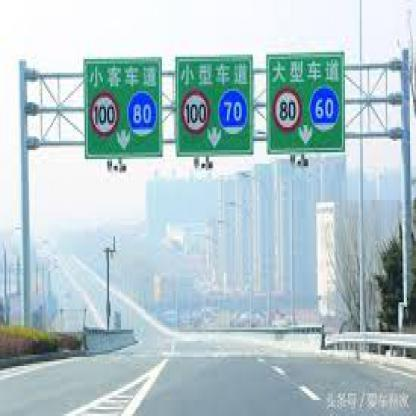Speed Limit 100: (90, 95, 118, 134), (184, 89, 209, 132)
Speed Limit 80: (274, 89, 302, 130)
